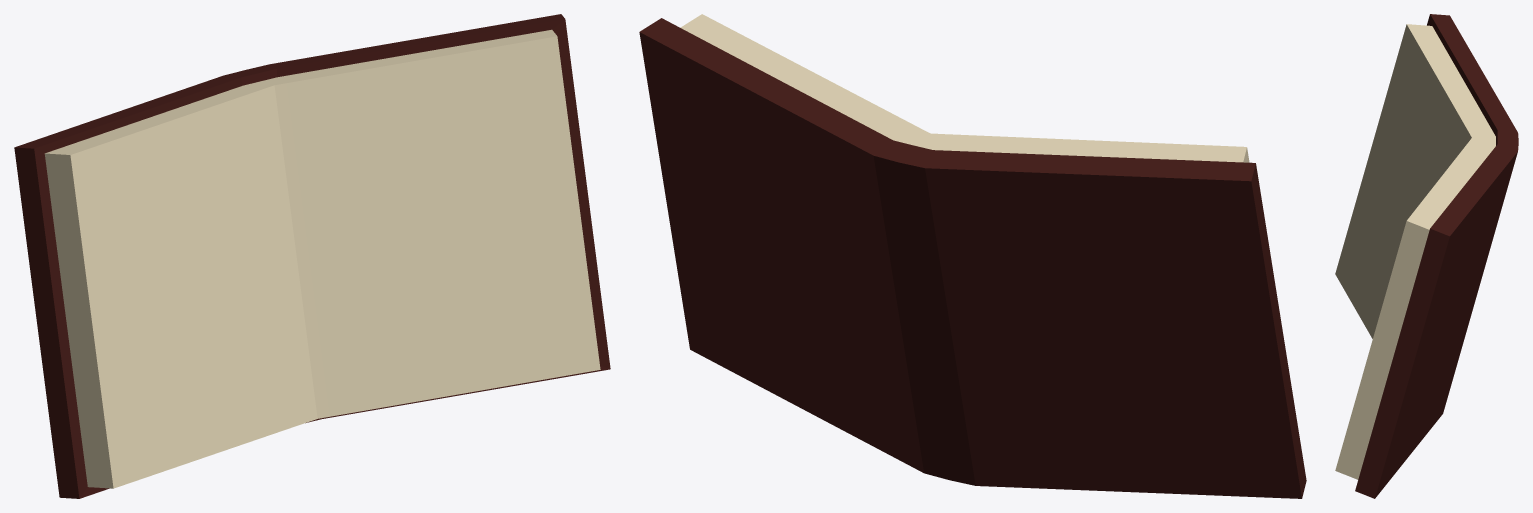
File: Libro.fbx
3 renders of one model, left to right at view 1: azimuth 30°, elevation 25°; view 2: azimuth 150°, elevation 25°; view 3: azimuth 270°, elevation 25°, orthographic. The views are drawn at different scales.
Visible parts, largest first — view 1: Cube.003; view 2: Cube.003; view 3: Cube.003.
Boxes of the visible parts, bbox=[...] form: Cube.003: bbox=[14, 14, 610, 498]; Cube.003: bbox=[639, 14, 1306, 498]; Cube.003: bbox=[1335, 14, 1518, 498].
Size of the model in its own units: 206 by 123 by 72.36.
